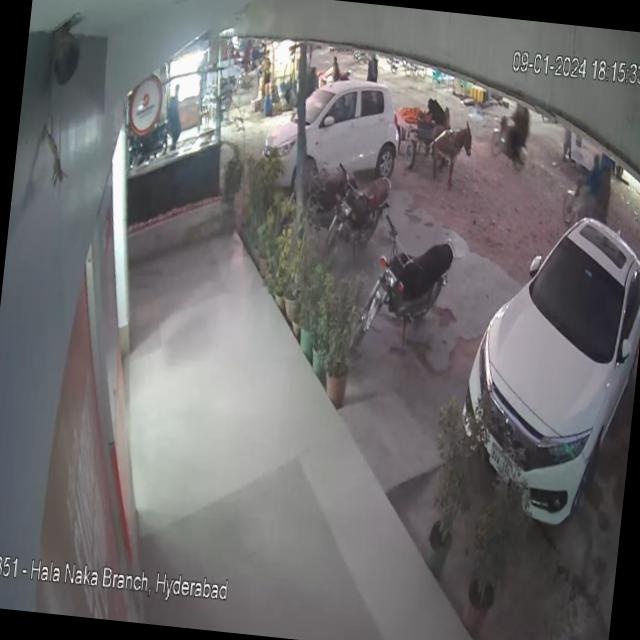Car: (448, 163, 640, 543), (241, 56, 408, 188)
Motorcycle: (347, 201, 468, 367), (327, 161, 398, 255)
